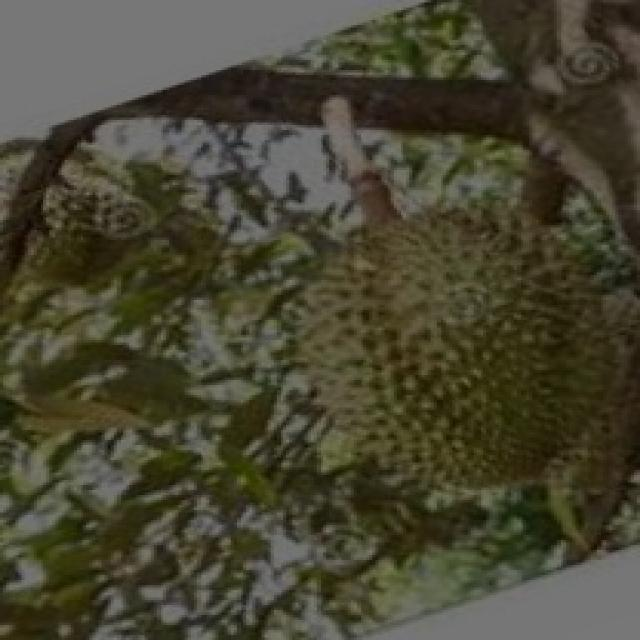fruit: (258, 165, 640, 535)
